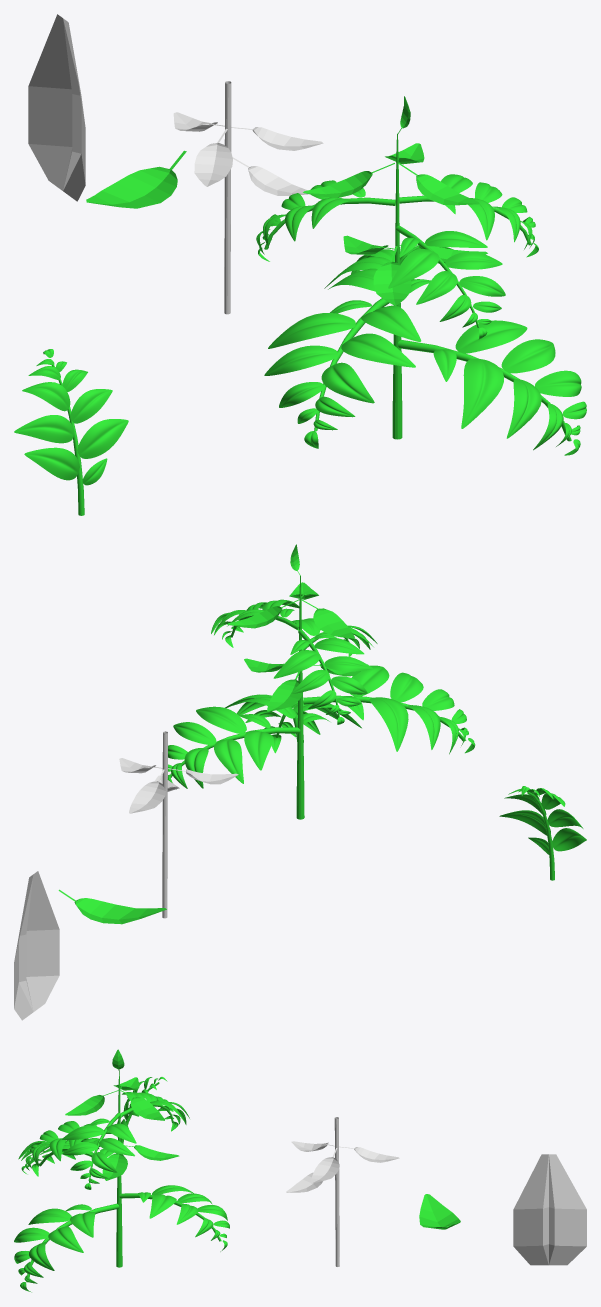
The model's file is miniplant.fbx.
3 views of the same model, one above another, from view 1: azimuth 30°, elevation 25°; view 2: azimuth 150°, elevation 25°; view 3: azimuth 270°, elevation 25° (orthographic). The views are drawn at different scales.
Parts seen in each view (by area): view 1: Vert.007, Vert.004, Plane, Vert.002, Vert.008, Vert.006, Plane.003, Vert.005, Vert.003, Vert.009, Vert.001, Plane.002 (+5 smaller); view 2: Plane, Vert.003, Vert.004, Vert.005, Vert.002, Vert.007, Plane.003, Vert.006, Vert.001, Vert.009, Plane.004, Plane.011 (+3 smaller); view 3: Plane, Vert.007, Vert.006, Vert.003, Vert.008, Plane.003, Vert.005, Vert.004, Vert.001, Vert.009, Plane.005, Plane.012 (+6 smaller).
Part boxes in pixels (left/top/right/bottom): Vert.007: left=398, top=320, right=586, bottom=455; Vert.004: left=264, top=298, right=421, bottom=448; Plane: left=28, top=14, right=85, bottom=201; Vert.002: left=14, top=349, right=128, bottom=515; Vert.008: left=388, top=225, right=505, bottom=339; Vert.006: left=399, top=174, right=538, bottom=257; Plane.003: left=86, top=150, right=186, bottom=208; Vert.005: left=256, top=180, right=395, bottom=261; Vert.003: left=324, top=246, right=453, bottom=307; Vert.009: left=224, top=81, right=231, bottom=314; Vert.001: left=392, top=133, right=402, bottom=439; Plane.002: left=194, top=129, right=232, bottom=186; Plane: left=14, top=871, right=59, bottom=1020; Vert.003: left=167, top=706, right=300, bottom=789; Vert.004: left=303, top=665, right=475, bottom=754; Vert.005: left=273, top=629, right=372, bottom=724; Vert.002: left=499, top=786, right=586, bottom=880; Vert.007: left=225, top=694, right=361, bottom=753; Plane.003: left=58, top=889, right=166, bottom=924; Vert.006: left=211, top=599, right=299, bottom=647; Vert.001: left=296, top=576, right=304, bottom=819; Vert.009: left=162, top=731, right=167, bottom=918; Plane.004: left=129, top=769, right=165, bottom=813; Plane.011: left=301, top=599, right=354, bottom=638; Plane: left=513, top=1154, right=586, bottom=1265; Vert.007: left=14, top=1203, right=119, bottom=1292; Vert.006: left=62, top=1113, right=136, bottom=1189; Vert.003: left=119, top=1185, right=229, bottom=1251; Vert.008: left=21, top=1121, right=111, bottom=1174; Plane.003: left=419, top=1194, right=460, bottom=1229; Vert.005: left=120, top=1092, right=189, bottom=1131; Vert.004: left=18, top=1138, right=113, bottom=1176; Vert.001: left=116, top=1071, right=122, bottom=1267; Vert.009: left=334, top=1117, right=339, bottom=1266; Plane.005: left=311, top=1148, right=339, bottom=1183; Plane.012: left=120, top=1090, right=164, bottom=1120.
Bounding box in the file's own units: 364 × 236 × 560.
